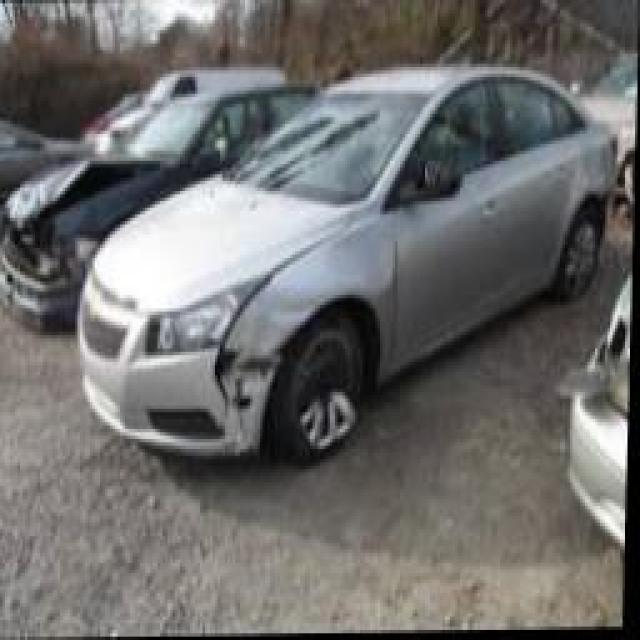Bumper: (219, 366, 273, 451)
Fender: (216, 215, 398, 390), (569, 136, 618, 222)
